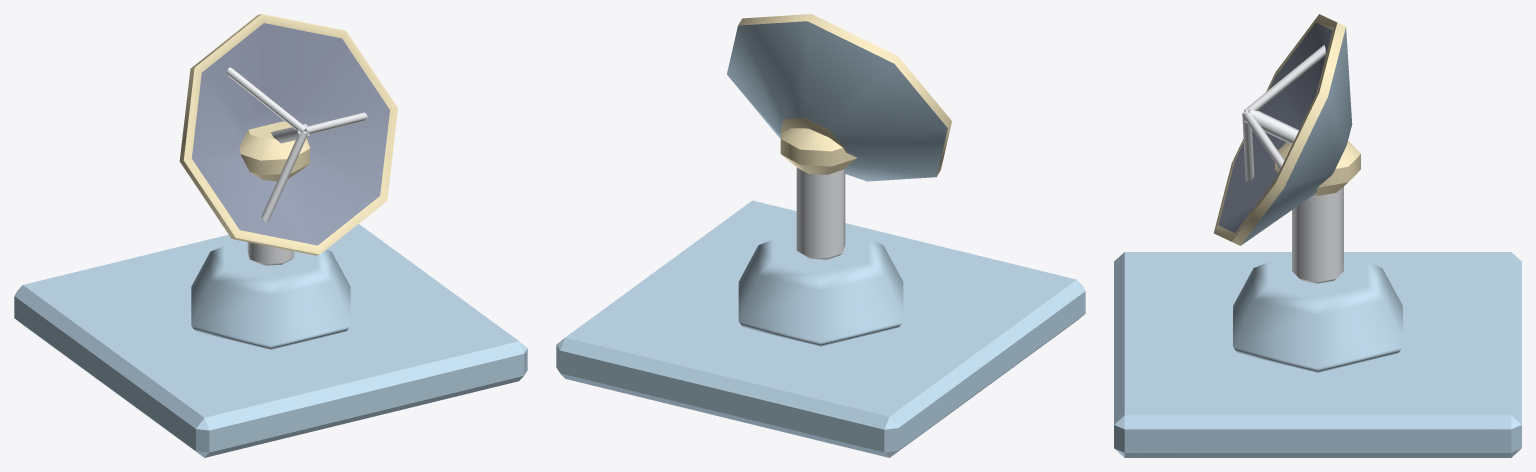
Rendered from R4X_Radar_LOD1.glb.
The picture shows the model from 3 angles, left to right: view 1: azimuth 30°, elevation 25°; view 2: azimuth 150°, elevation 25°; view 3: azimuth 270°, elevation 25°; orthographic projection. The views are drawn at different scales.
Parts seen in each view (by area): view 1: R4X_Radar_LOD1; view 2: R4X_Radar_LOD1; view 3: R4X_Radar_LOD1.
Part boxes in pixels (x1,y1,x2,y2): R4X_Radar_LOD1: [14, 14, 527, 457]; R4X_Radar_LOD1: [556, 14, 1085, 457]; R4X_Radar_LOD1: [1114, 14, 1521, 457].
Size of the model in its own units: 0.52 by 0.4978 by 0.52.
